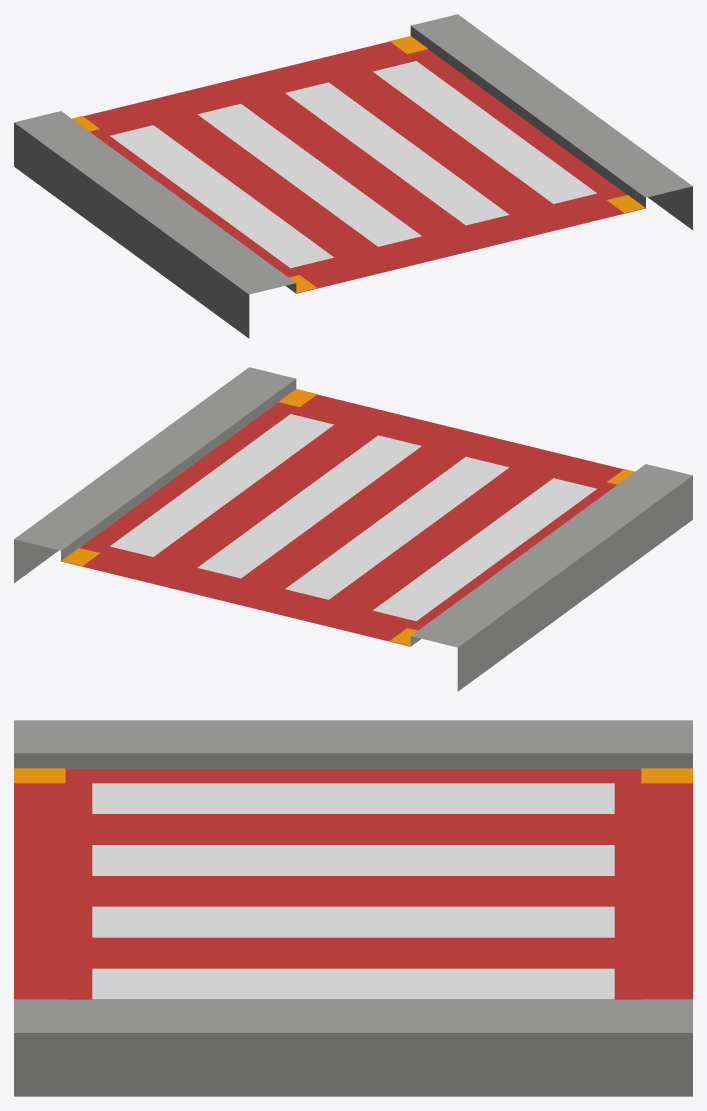
The model's file is Road_C_11.fbx.
3 views of the same model, one above another, from view 1: azimuth 30°, elevation 25°; view 2: azimuth 150°, elevation 25°; view 3: azimuth 270°, elevation 25° (orthographic). The views are drawn at different scales.
Visible parts, largest first — view 1: Road_C_11; view 2: Road_C_11; view 3: Road_C_11.
Boxes of the visible parts, bbox=[...] form: Road_C_11: bbox=[14, 14, 692, 338]; Road_C_11: bbox=[14, 367, 692, 691]; Road_C_11: bbox=[14, 720, 692, 1096].
Bounding box in the file's own units: 436 × 41.48 × 400.
